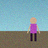person: (27, 17, 40, 41)
